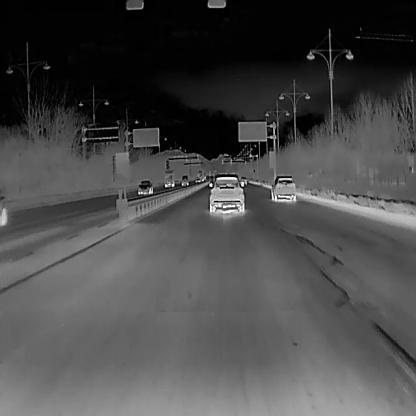car: (207, 174, 245, 214), (270, 174, 295, 201), (162, 167, 175, 186), (137, 179, 152, 194), (180, 174, 187, 185)
